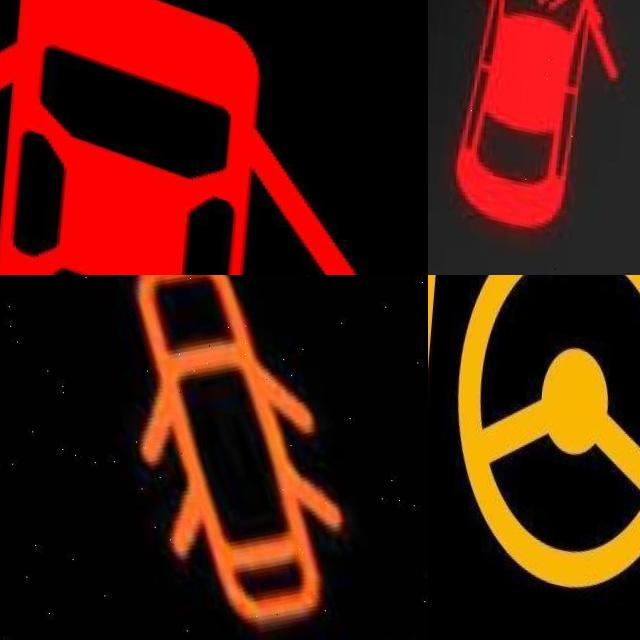Electronic Power Steering: (428, 275, 640, 590)
